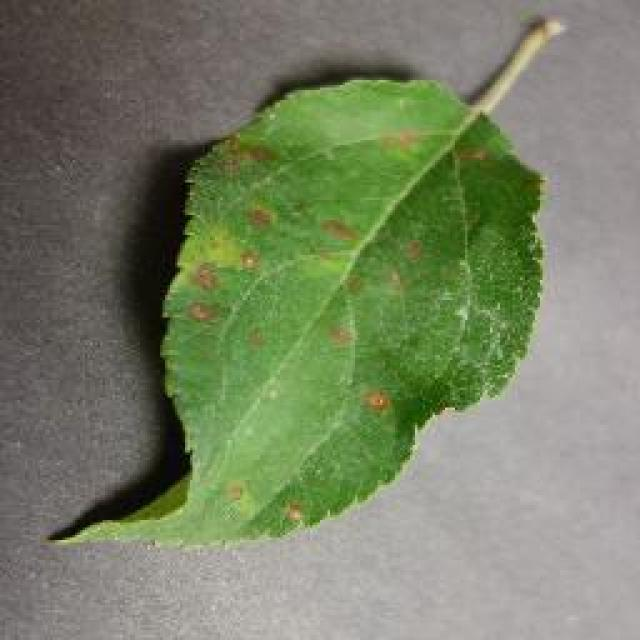apple scab disease: (45, 10, 565, 550)
